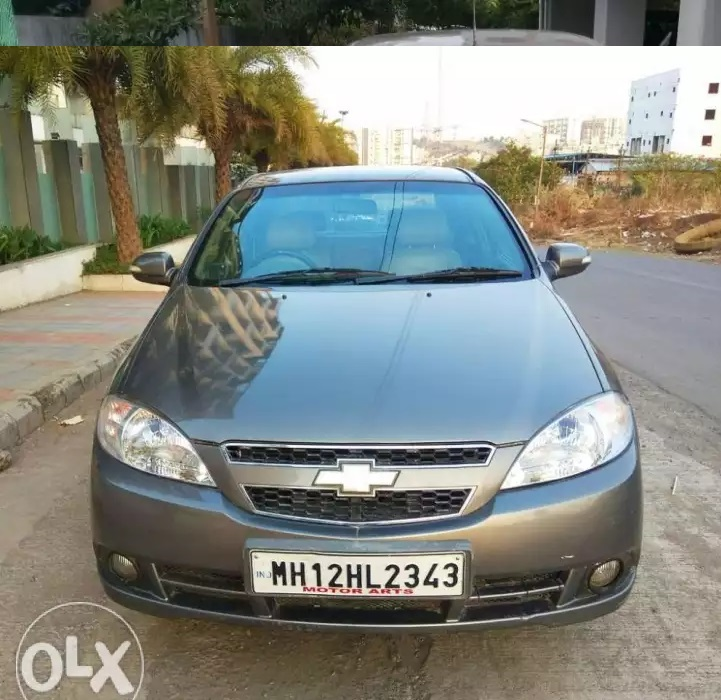licenseplate: (245, 544, 470, 603)
